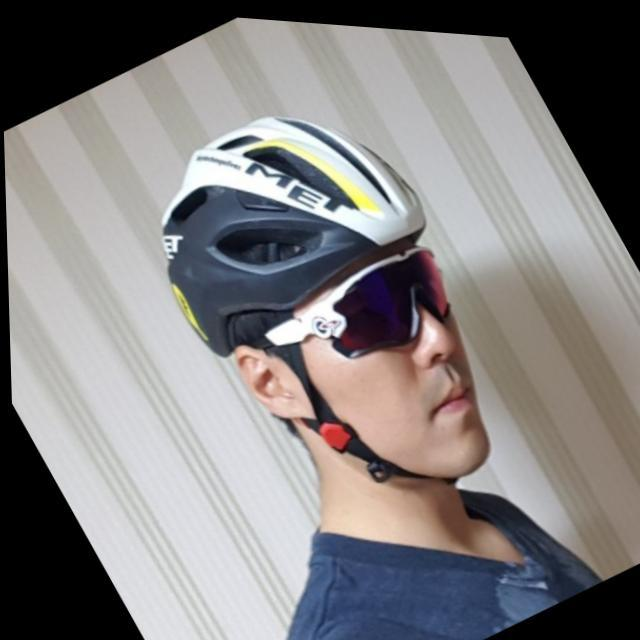Helmet: (154, 110, 499, 485)
